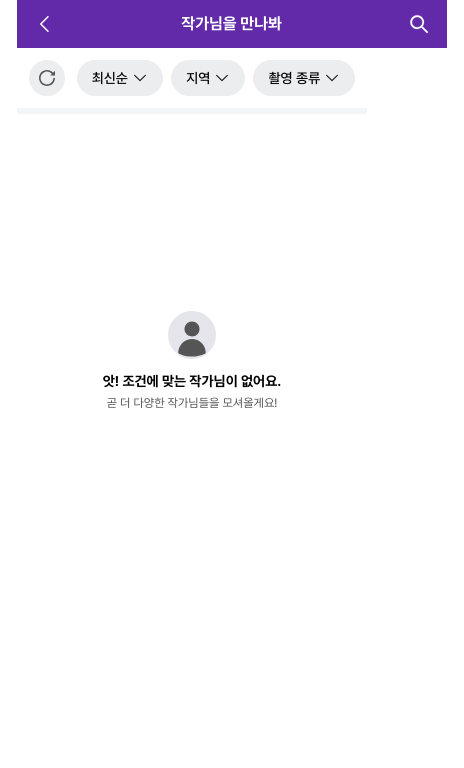
Test: PhotographersHome › 검색 버튼 클릭 시 검색 페이지로 이동한다
The width and height of the screenshot is (464, 768).
What coordinates should you click on to do the following:
click the picture with alt text "검색"
I would click on:
 (419, 24)
Its box is x1=391 y1=12 x2=447 y2=36.
(page scrolled)
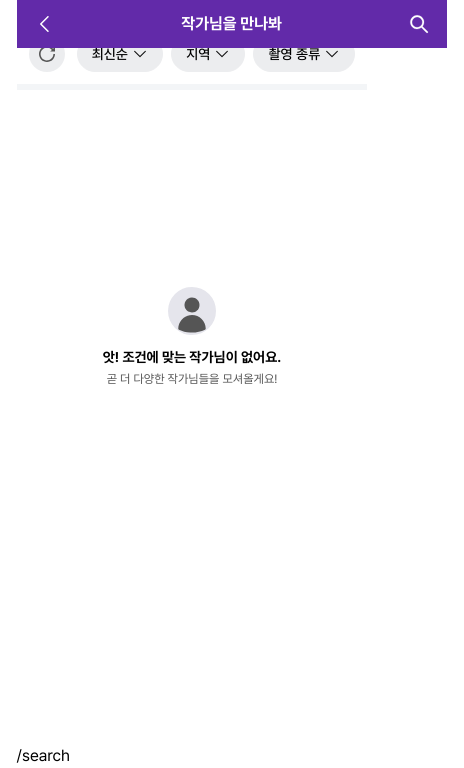
Result: the text with test id "path" reads "/search" at x1=17 y1=746 x2=70 y2=765
